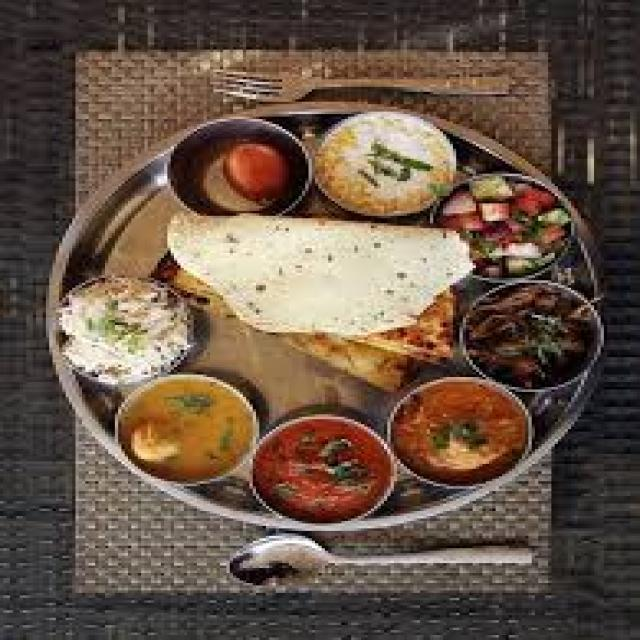curd: (39, 269, 209, 389)
dal: (103, 376, 267, 487)
papad: (183, 210, 461, 342)
raita: (39, 269, 205, 388)
roti: (272, 290, 463, 400)
sweet: (168, 120, 321, 222)
veg-fry: (376, 370, 546, 494), (238, 416, 407, 530)
